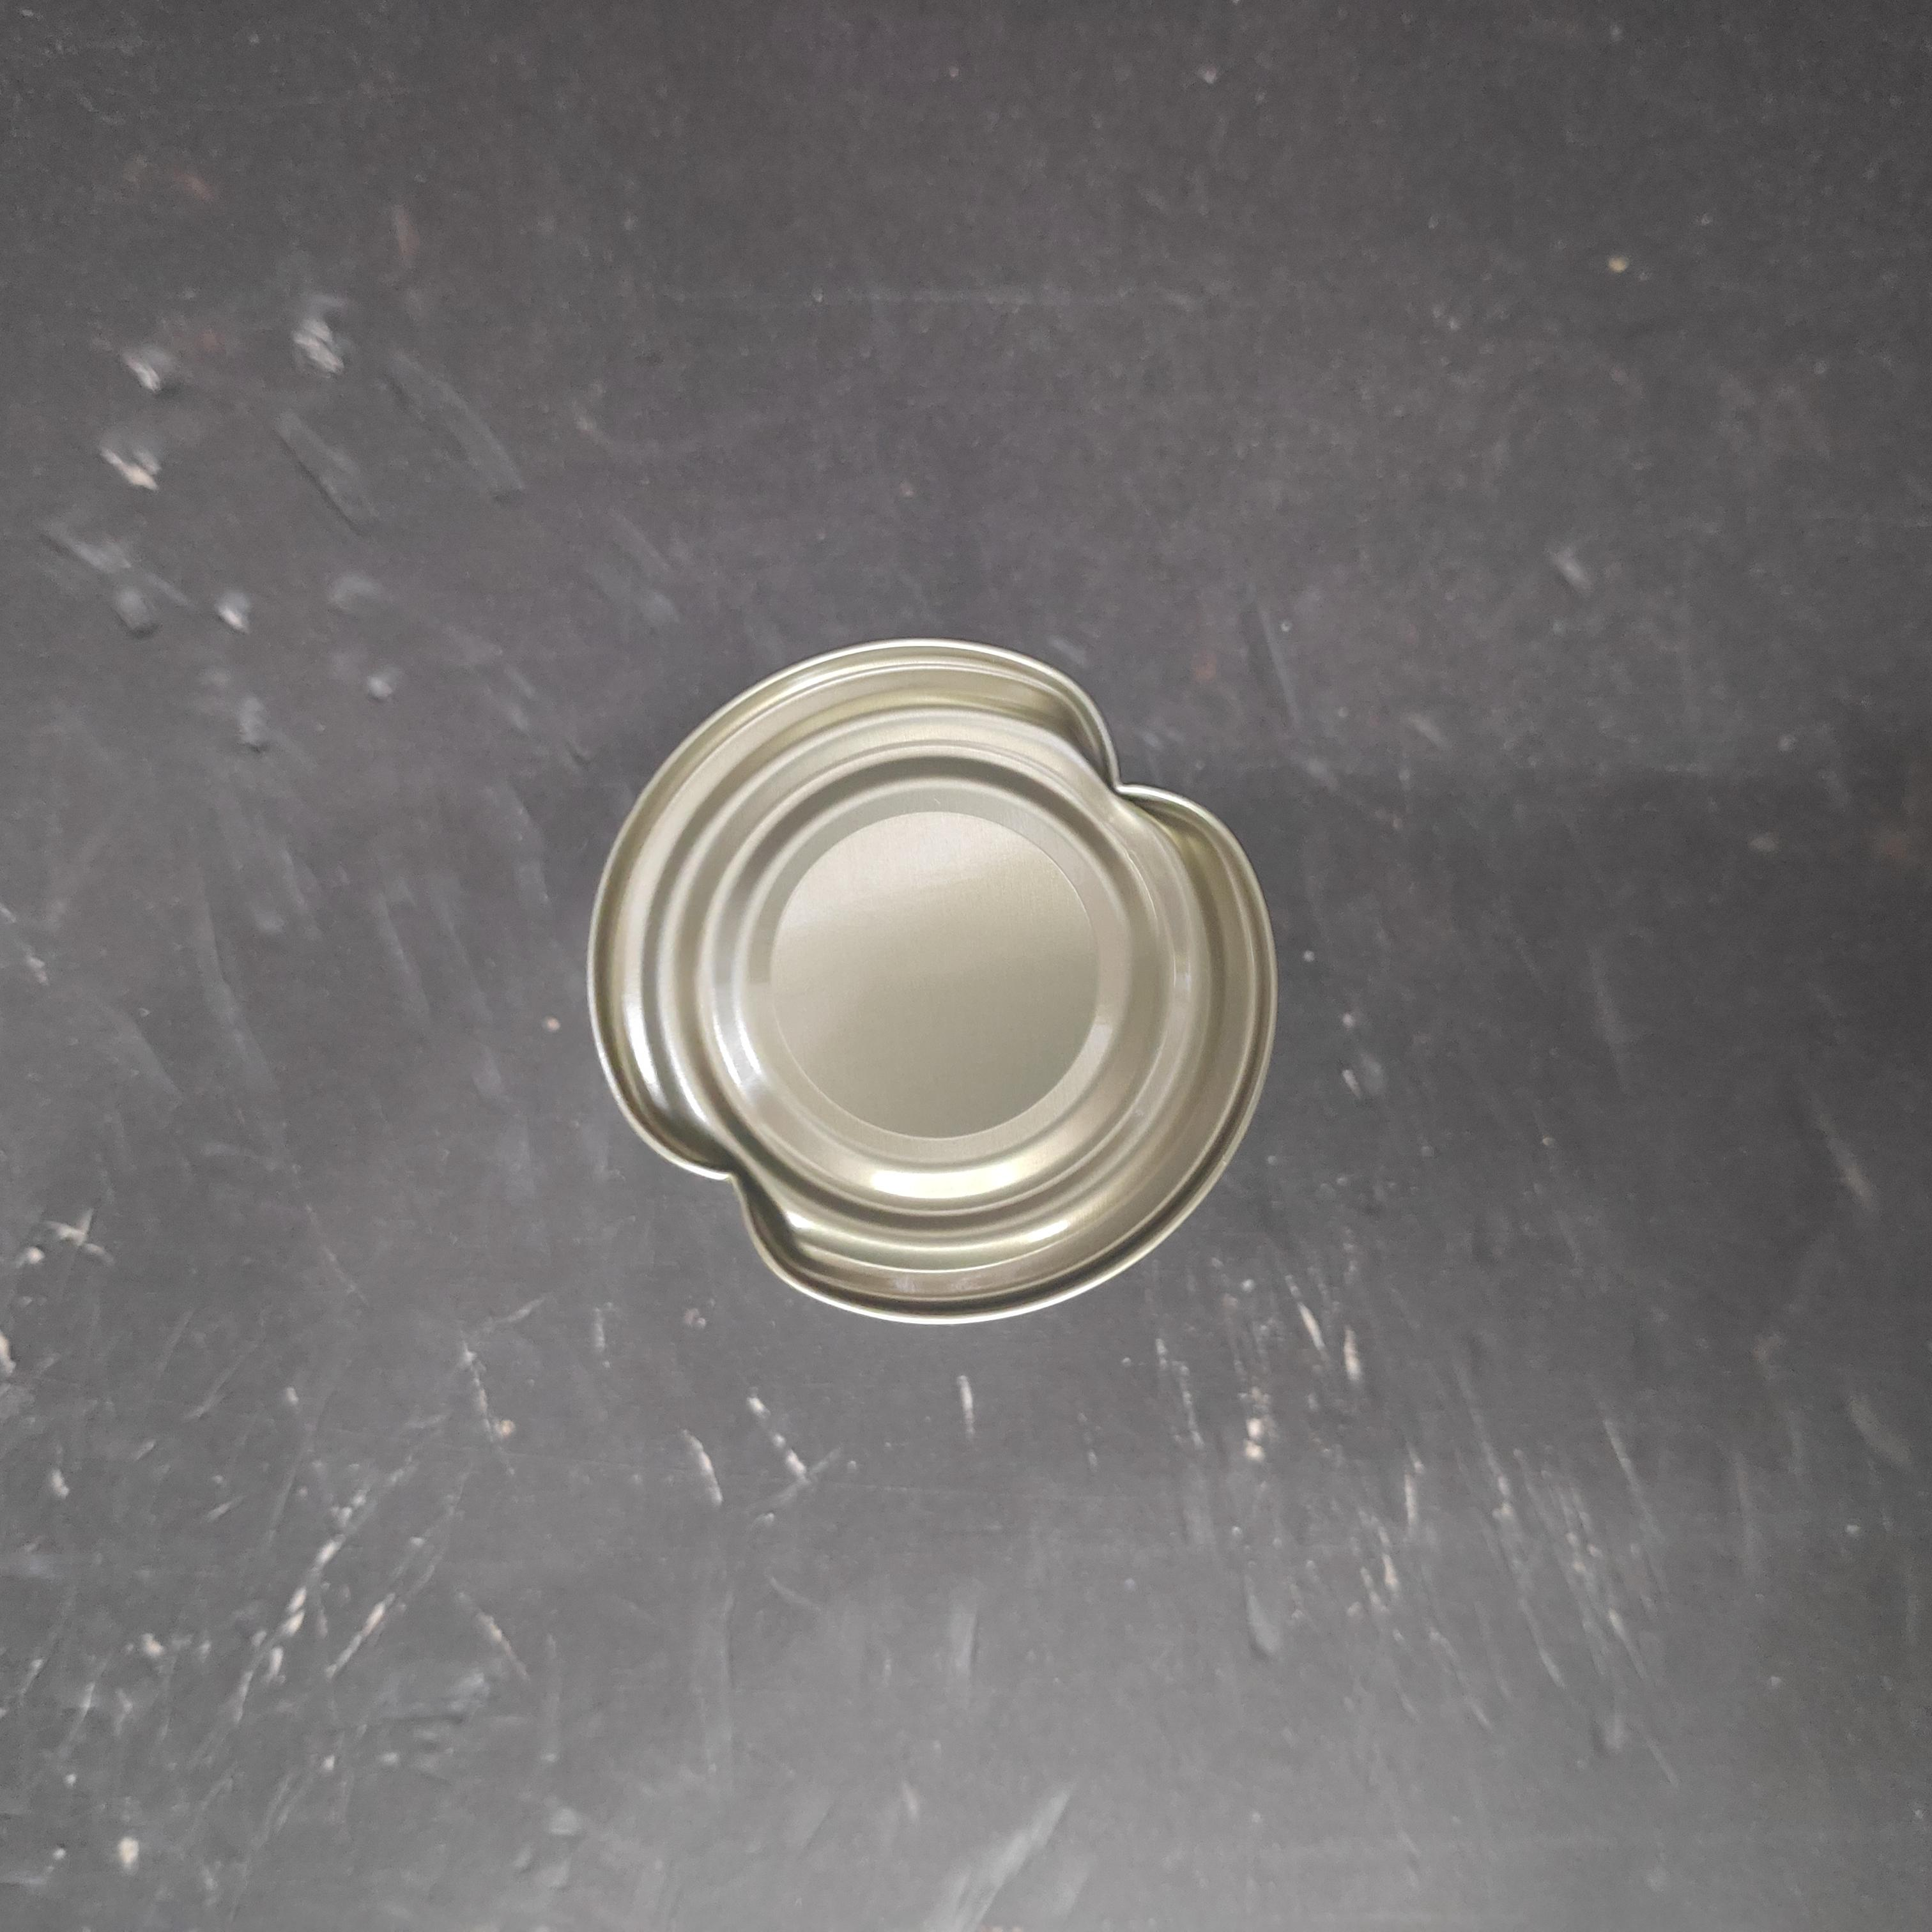Critical Defect: (579, 623, 1286, 1339)
